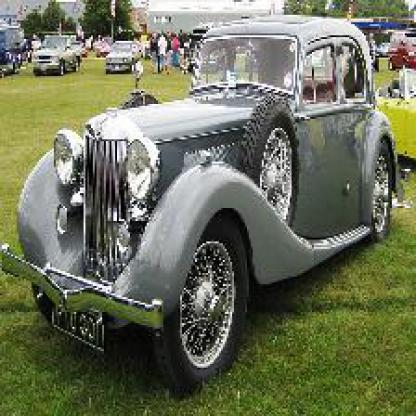not_emergency: (15, 30, 394, 382)
